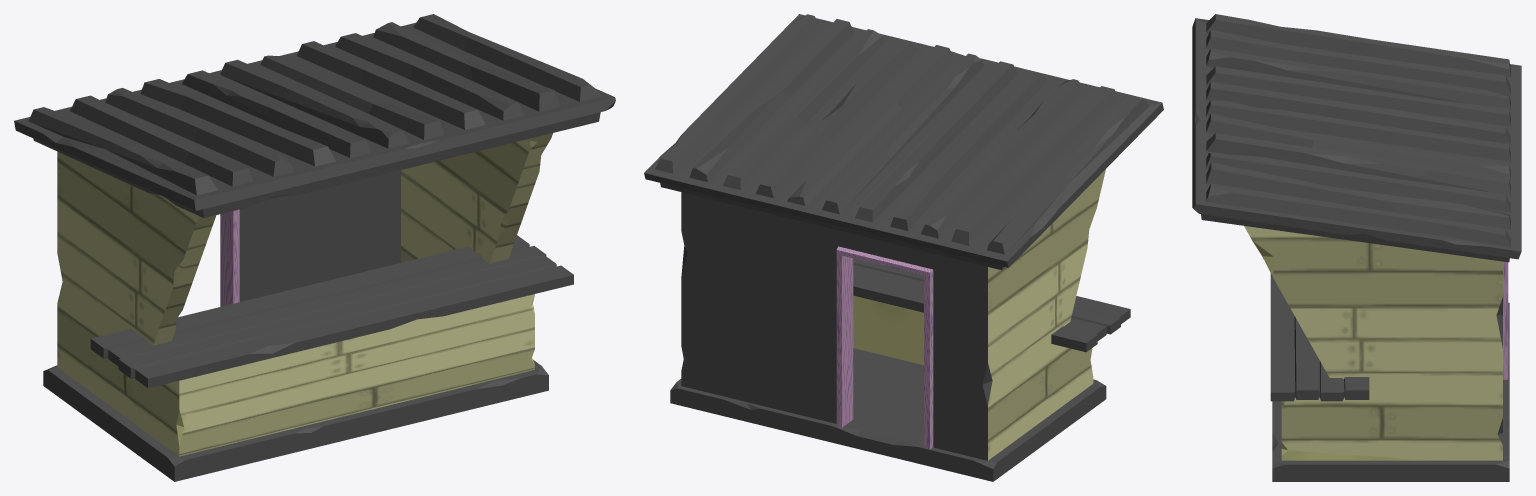
Rendered from BeachShop_01.fbx.
3 views of the same model, side by side, from view 1: azimuth 30°, elevation 25°; view 2: azimuth 150°, elevation 25°; view 3: azimuth 270°, elevation 25° (orthographic). The views are drawn at different scales.
Parts seen in each view (by area): view 1: SM_Bld_Beach_Shop_01; view 2: SM_Bld_Beach_Shop_01; view 3: SM_Bld_Beach_Shop_01.
Boxes of the visible parts, x1,y1,x2,y2 form: SM_Bld_Beach_Shop_01: (14, 14, 615, 481); SM_Bld_Beach_Shop_01: (644, 14, 1163, 481); SM_Bld_Beach_Shop_01: (1192, 14, 1521, 481).
Size of the model in its own units: 452 by 335 by 332.
